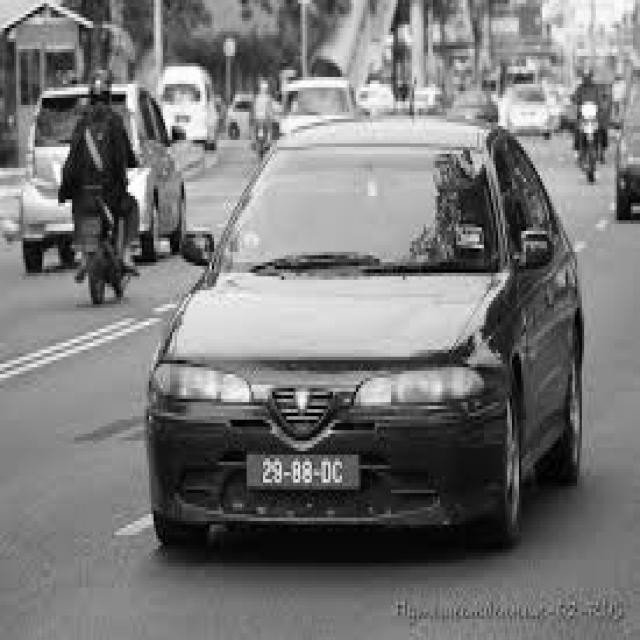License_Plate: (242, 445, 369, 501)
car: (133, 52, 561, 575)
